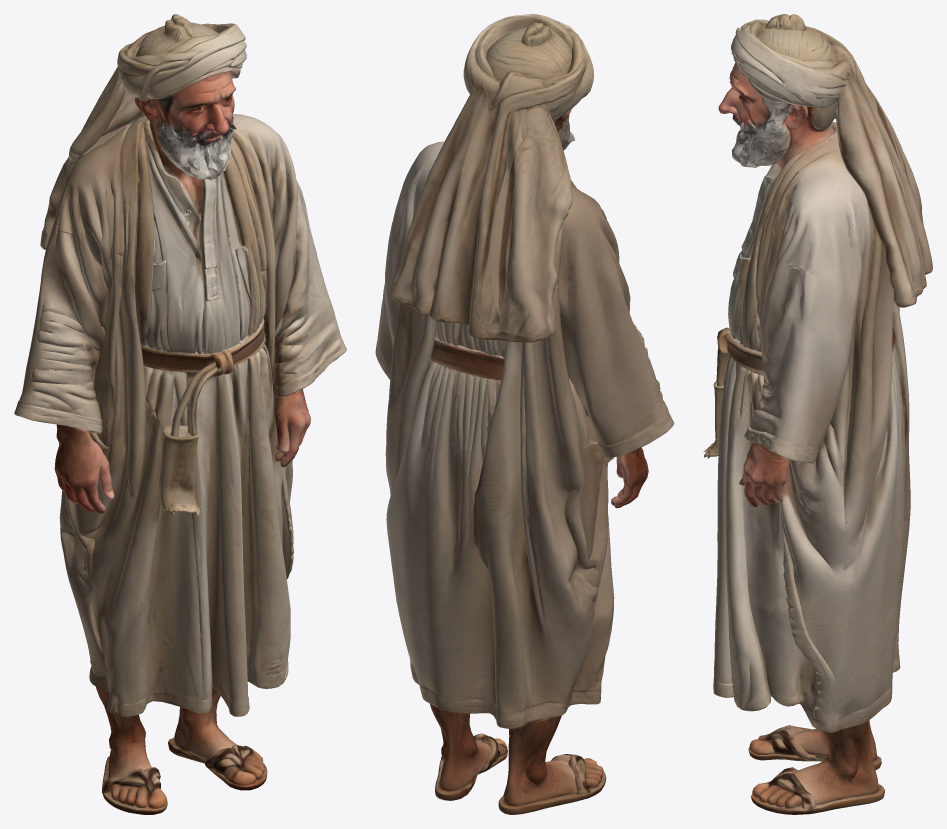
The model's file is crowd_caravaneer_rodin_source.glb.
3 views of the same model, side by side, from view 1: azimuth 30°, elevation 25°; view 2: azimuth 150°, elevation 25°; view 3: azimuth 270°, elevation 25° (orthographic). The views are drawn at different scales.
Visible parts, largest first — view 1: model; view 2: model; view 3: model.
Part boxes in pixels (x1=…): model: x1=14, y1=14, x2=346, y2=814; model: x1=375, y1=14, x2=674, y2=814; model: x1=703, y1=14, x2=932, y2=814.
Bounding box in the file's own units: 0.8084 × 1.9 × 0.5199.
Materials: 1 (1 with a texture image).
